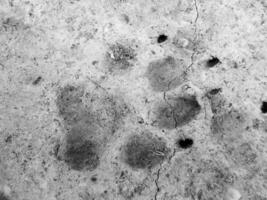chien: (49, 32, 222, 176)
